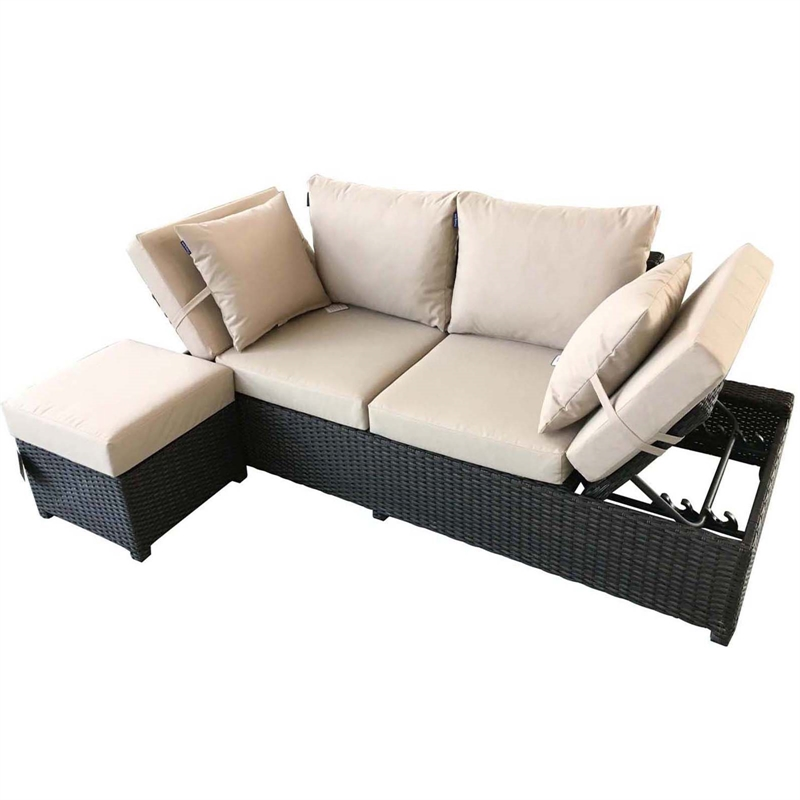chairs: (108, 173, 800, 649), (2, 337, 254, 566)
